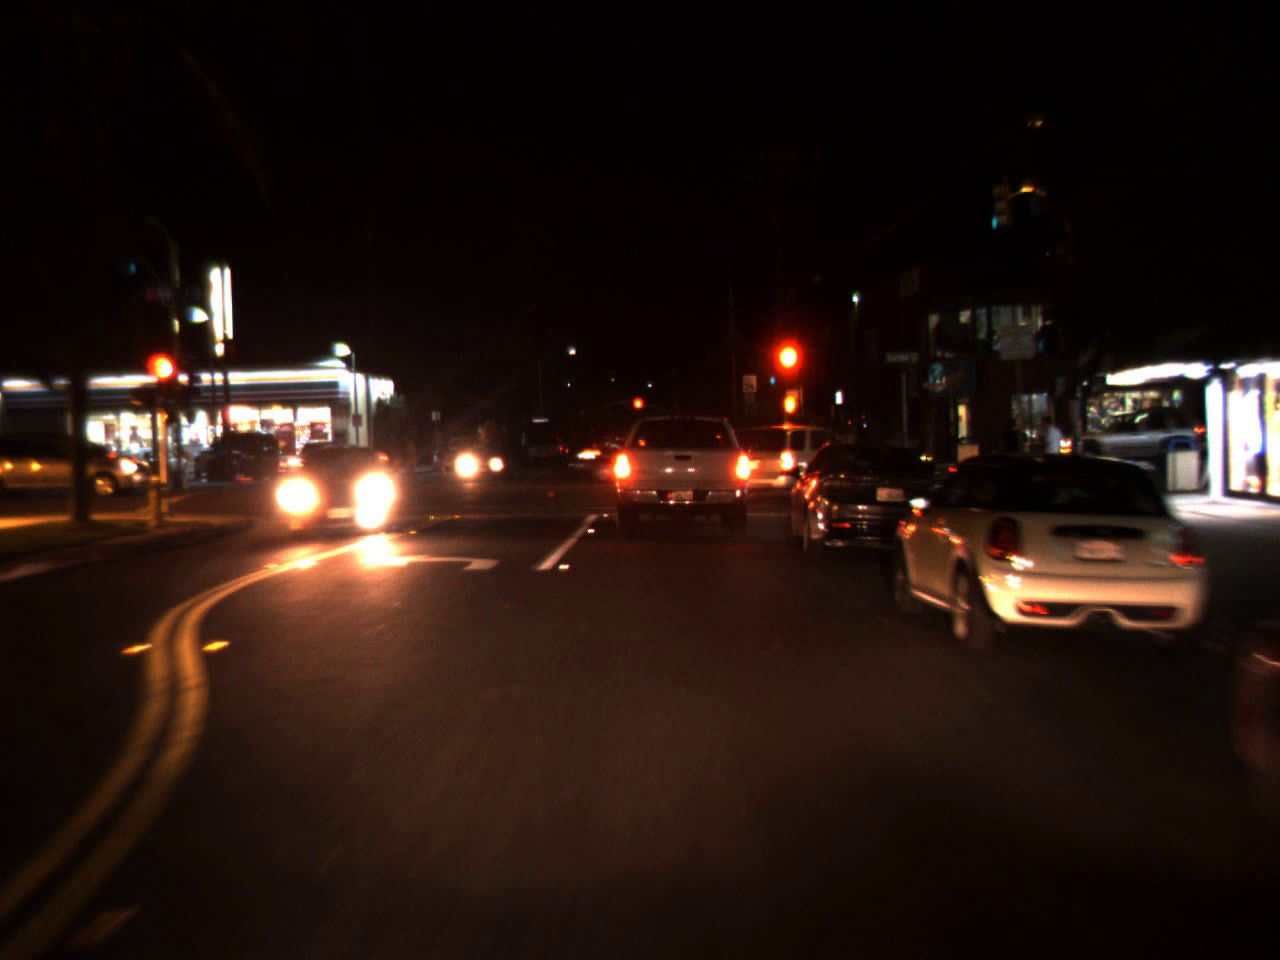stop: (140, 346, 183, 424), (771, 340, 805, 396), (631, 395, 644, 422)
